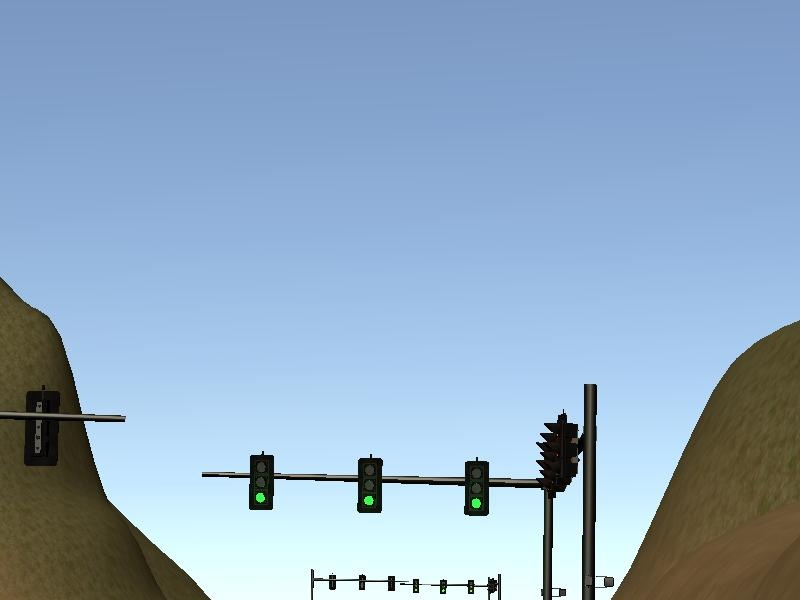GREEN: (358, 456, 384, 516), (463, 460, 489, 518), (249, 455, 274, 510)
